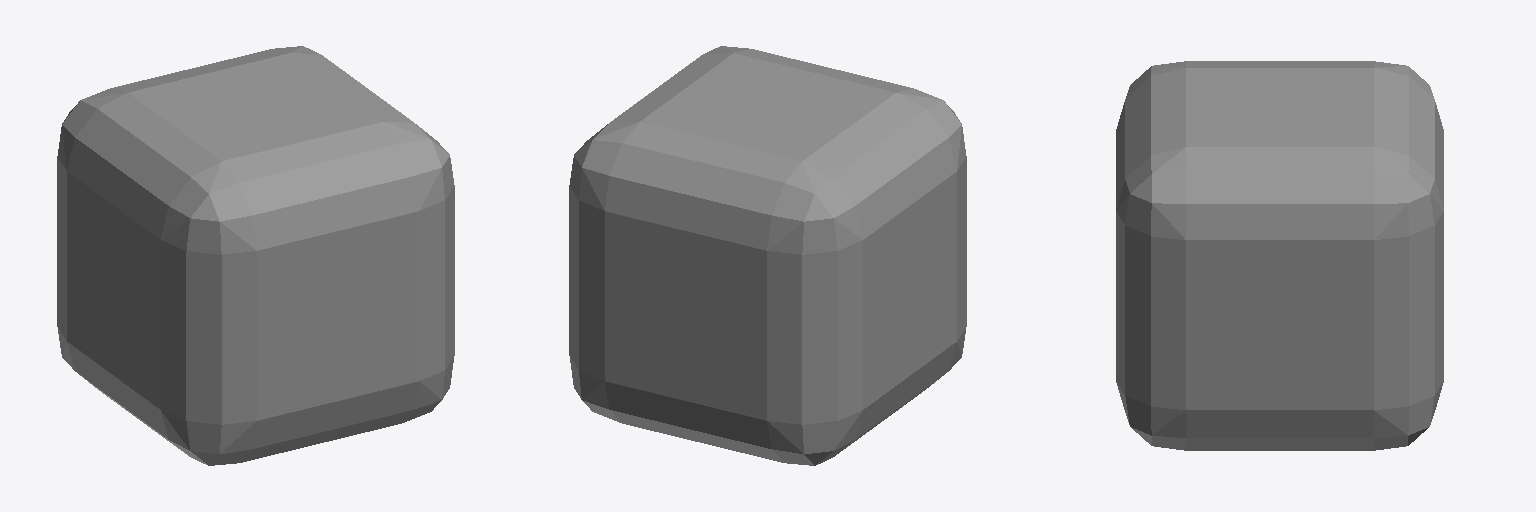
File: cursorBlock.obj
3 views of the same model, side by side, from view 1: azimuth 30°, elevation 25°; view 2: azimuth 150°, elevation 25°; view 3: azimuth 270°, elevation 25° (orthographic).
Bounding box in the file's own units: 0.6 × 0.6 × 0.6.